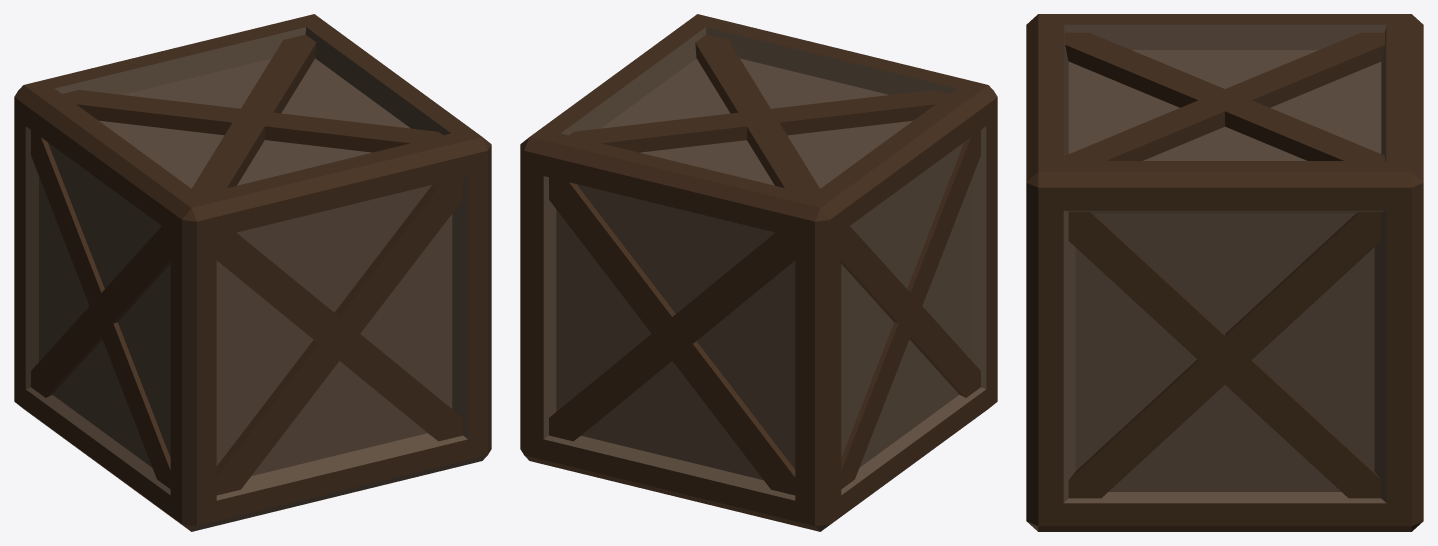
The model's file is ItemCrate.fbx.
3 views of the same model, side by side, from view 1: azimuth 30°, elevation 25°; view 2: azimuth 150°, elevation 25°; view 3: azimuth 270°, elevation 25° (orthographic). The views are drawn at different scales.
Visible parts, largest first — view 1: Cube.001; view 2: Cube.001; view 3: Cube.001.
Part boxes in pixels (<box>): Cube.001: <box>14,14,491,531</box>; Cube.001: <box>520,14,997,531</box>; Cube.001: <box>1026,14,1423,531</box>.
Size of the model in its own units: 200 by 200 by 200.
